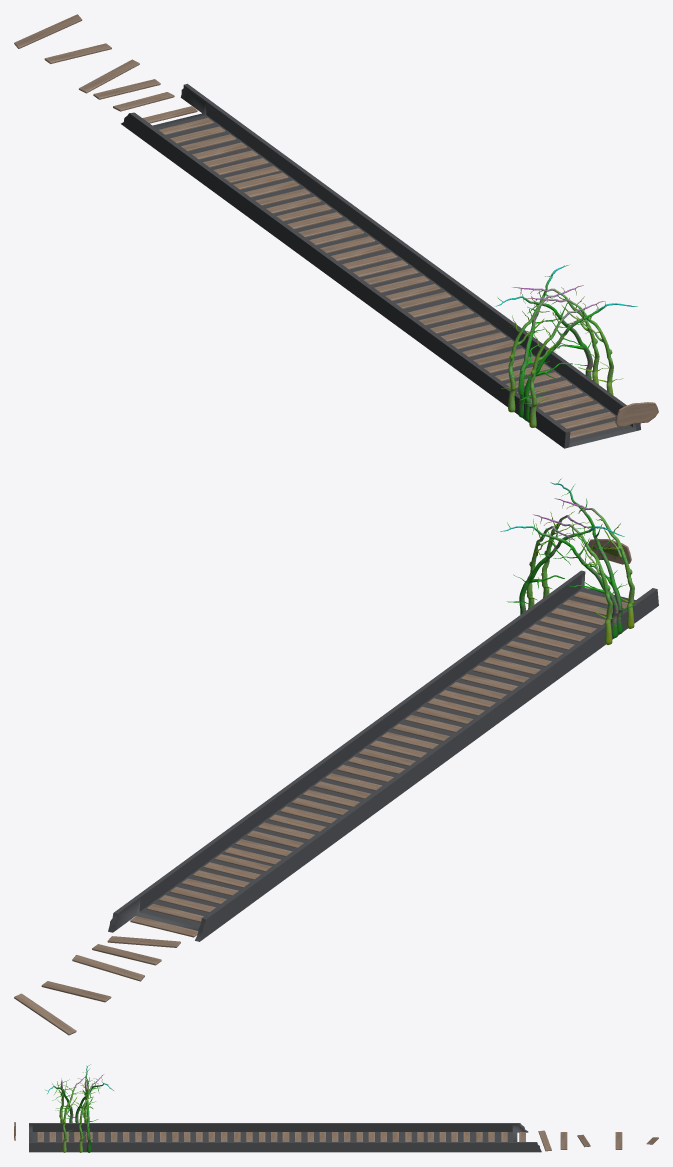
The model's file is Station.fbx.
The picture shows the model from 3 angles, top to bottom: view 1: azimuth 30°, elevation 25°; view 2: azimuth 150°, elevation 25°; view 3: azimuth 270°, elevation 25°; orthographic projection. The views are drawn at different scales.
Visible parts, largest first — view 1: Rails, Trees, Sign; view 2: Rails, Trees; view 3: Rails, Trees.
Part boxes in pixels (bbox=[...]): Rails: bbox=[14, 14, 640, 448]; Trees: bbox=[495, 265, 637, 427]; Sign: bbox=[615, 402, 658, 426]; Rails: bbox=[14, 570, 658, 1035]; Trees: bbox=[500, 478, 643, 644]; Rails: bbox=[29, 1123, 658, 1152]; Trees: bbox=[45, 1064, 113, 1152].
Bounding box in the file's own units: 167 × 188 × 1543.
